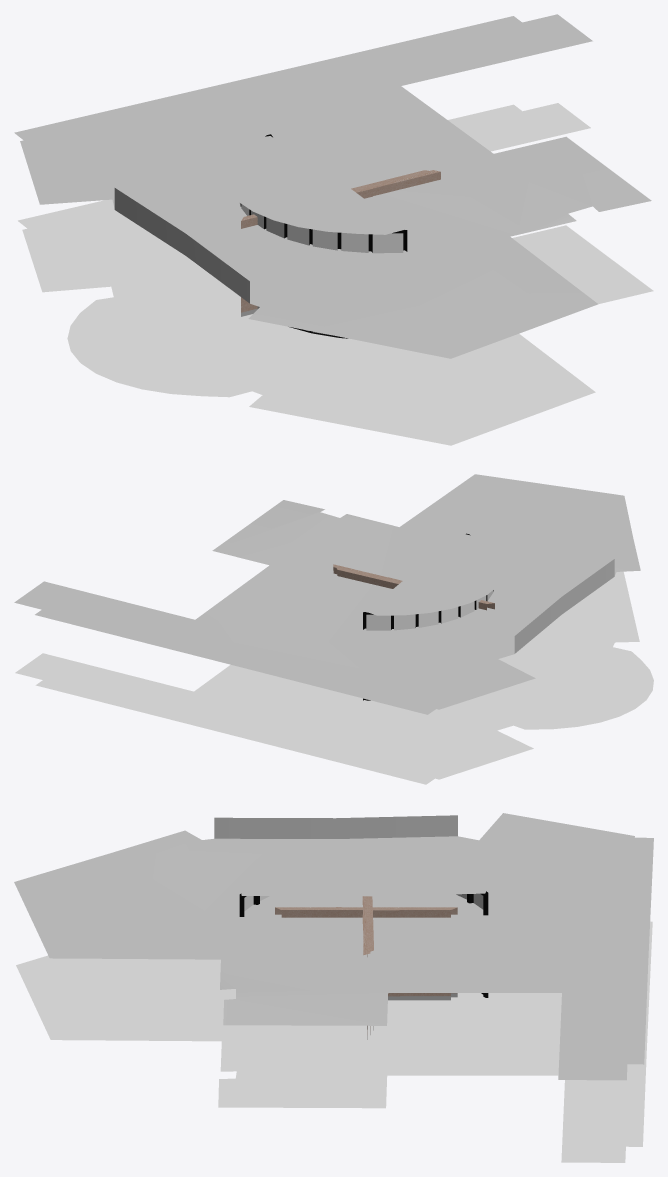
File: Modular.fbx
The picture shows the model from 3 angles, top to bottom: view 1: azimuth 30°, elevation 25°; view 2: azimuth 150°, elevation 25°; view 3: azimuth 270°, elevation 25°; orthographic projection. The views are drawn at different scales.
Visible parts, largest first — view 1: RoofMain, Floor, RoofRound, RoundWindowGlass, WallWindows, RoundWindowMetal; view 2: RoofMain, Floor, RoofRound, RoundWindowGlass, WallRoom2; view 3: RoofMain, Floor, RoofRound, WallRoom1.
Boxes of the visible parts, <box> form: RoofMain: <box>14,14,651,358</box>; Floor: <box>18,103,653,445</box>; RoofRound: <box>224,136,404,234</box>; RoundWindowGlass: <box>239,203,403,335</box>; WallWindows: <box>241,170,440,316</box>; RoundWindowMetal: <box>240,134,407,338</box>; RoofMain: <box>14,474,640,714</box>; Floor: <box>15,571,653,784</box>; RoofRound: <box>366,534,504,615</box>; RoundWindowGlass: <box>366,590,493,699</box>; WallRoom2: <box>336,566,400,588</box>; RoofMain: <box>14,813,653,1080</box>; Floor: <box>16,921,652,1162</box>; RoofRound: <box>241,851,487,896</box>; WallRoom1: <box>275,907,457,1000</box>.
Bounding box in the file's own units: 20.44 × 3.5 × 19.3.
